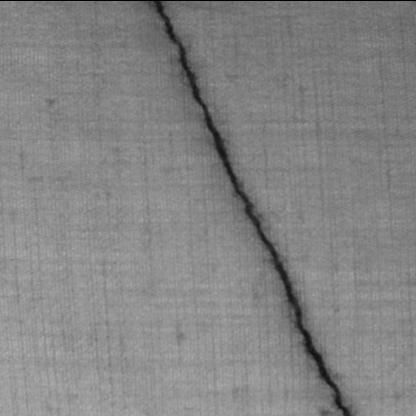objects: (149, 1, 358, 415)
